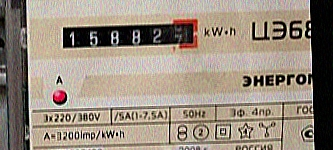1: (67, 31, 76, 48)
2: (151, 28, 161, 45)
5: (88, 31, 98, 47)
7: (173, 34, 182, 45)
8: (130, 29, 140, 47), (109, 31, 119, 47)
screen: (54, 15, 203, 59)
